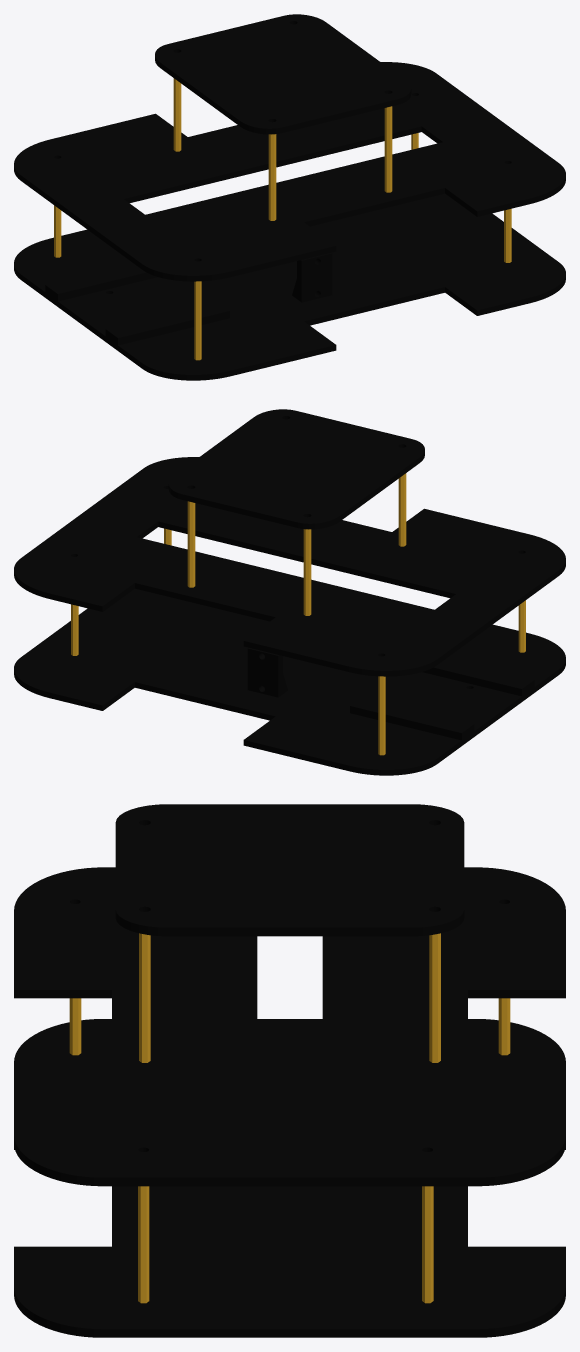
3 renders of one model, top to bottom at view 1: azimuth 30°, elevation 25°; view 2: azimuth 150°, elevation 25°; view 3: azimuth 270°, elevation 25°, orthographic. The views are drawn at different scales.
Visible parts, largest first — view 1: chassis.000; view 2: chassis.000; view 3: chassis.000.
Boxes of the visible parts, <box> form: chassis.000: <box>14,14,565,380</box>; chassis.000: <box>14,409,565,775</box>; chassis.000: <box>14,804,565,1337</box>.
Size of the model in its own units: 233 by 175 by 109.
